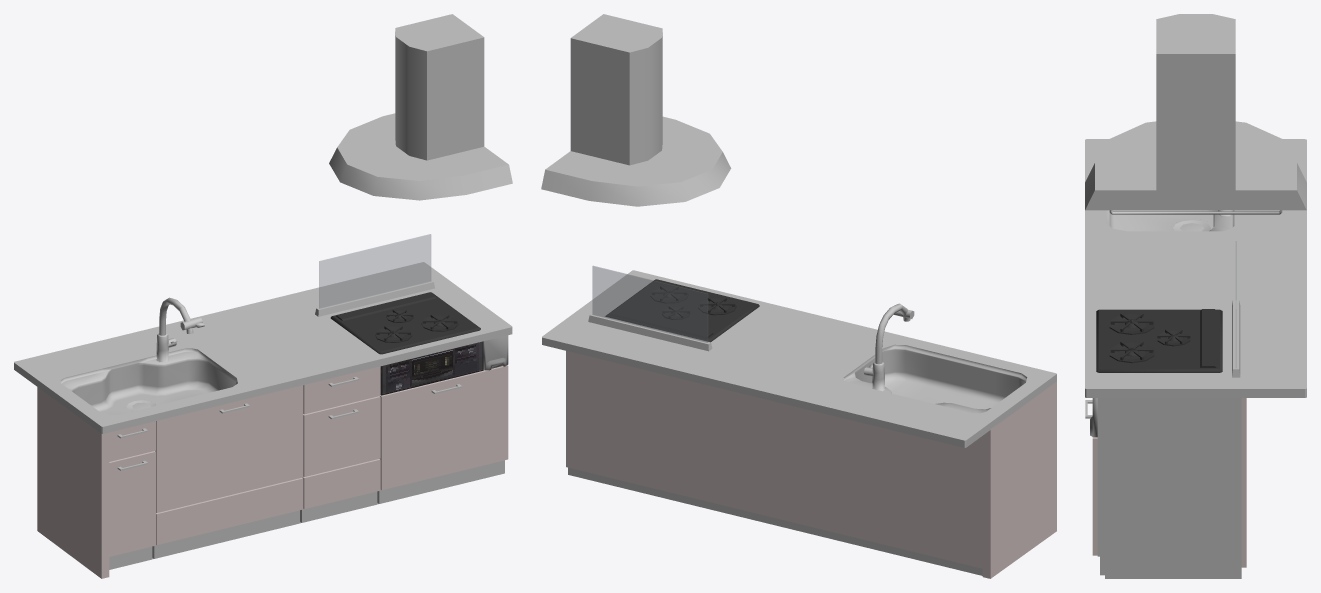
The model's file is ｷｯﾁﾝR01.gltf.
The picture shows the model from 3 angles, left to right: view 1: azimuth 30°, elevation 25°; view 2: azimuth 150°, elevation 25°; view 3: azimuth 270°, elevation 25°; orthographic projection. The views are drawn at different scales.
Visible parts, largest first — view 1: 1_primitive, 18_primitive, 22_primitive, 4_primitive, 21_primitive, 16_primitive, 2_primitive, 15_primitive, 6_primitive, 11_primitive, 12_primitive, 19_primitive (+4 smaller); view 2: 3_primitive, 18_primitive, 22_primitive, 4_primitive, 21_primitive, 16_primitive, 15_primitive, 6_primitive, 2_primitive, 12_primitive, 19_primitive, 8_primitive; view 3: 18_primitive, 2_primitive, 22_primitive, 21_primitive, 6_primitive, 16_primitive, 8_primitive, 3_primitive, 7_primitive, 1_primitive, 12_primitive, 10_primitive (+1 smaller).
Part boxes in pixels (x1=…): 1_primitive: x1=109, y1=365, x2=508, y2=556; 18_primitive: x1=14, y1=262, x2=512, y2=433; 22_primitive: x1=337, y1=14, x2=508, y2=180; 4_primitive: x1=37, y1=387, x2=109, y2=578; 21_primitive: x1=329, y1=32, x2=512, y2=200; 16_primitive: x1=60, y1=348, x2=237, y2=414; 2_primitive: x1=109, y1=365, x2=507, y2=569; 15_primitive: x1=319, y1=234, x2=430, y2=308; 6_primitive: x1=333, y1=292, x2=478, y2=351; 11_primitive: x1=380, y1=341, x2=483, y2=395; 12_primitive: x1=315, y1=280, x2=434, y2=316; 19_primitive: x1=156, y1=297, x2=193, y2=362; 3_primitive: x1=566, y1=351, x2=982, y2=568; 18_primitive: x1=542, y1=270, x2=1056, y2=447; 22_primitive: x1=545, y1=14, x2=722, y2=186; 4_primitive: x1=982, y1=381, x2=1056, y2=578; 21_primitive: x1=541, y1=32, x2=731, y2=206; 16_primitive: x1=843, y1=344, x2=1027, y2=413; 15_primitive: x1=592, y1=266, x2=707, y2=342; 6_primitive: x1=607, y1=279, x2=756, y2=340; 2_primitive: x1=568, y1=467, x2=982, y2=575; 12_primitive: x1=588, y1=313, x2=712, y2=351; 19_primitive: x1=872, y1=303, x2=914, y2=391; 8_primitive: x1=650, y1=286, x2=736, y2=318; 18_primitive: x1=1085, y1=139, x2=1306, y2=397; 2_primitive: x1=1097, y1=398, x2=1241, y2=578; 22_primitive: x1=1085, y1=14, x2=1306, y2=210; 21_primitive: x1=1085, y1=54, x2=1306, y2=214; 6_primitive: x1=1099, y1=309, x2=1219, y2=369; 16_primitive: x1=1106, y1=210, x2=1234, y2=231; 8_primitive: x1=1109, y1=314, x2=1190, y2=361; 3_primitive: x1=1241, y1=398, x2=1246, y2=567; 7_primitive: x1=1096, y1=310, x2=1222, y2=372; 1_primitive: x1=1092, y1=437, x2=1097, y2=555; 12_primitive: x1=1232, y1=299, x2=1240, y2=377; 10_primitive: x1=1110, y1=313, x2=1190, y2=360.
Bounding box in the file's own units: 2.4 × 2.35 × 0.9.
22 materials, 1 textured.
